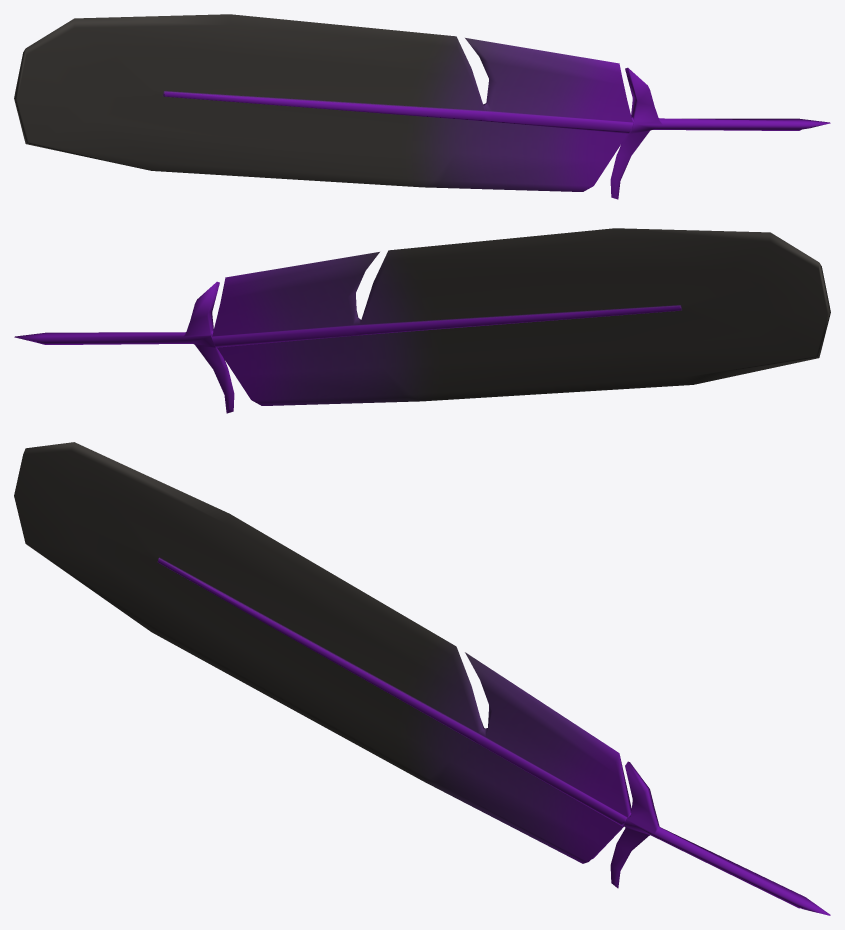
The model's file is feather_v2.fbx.
3 views of the same model, one above another, from view 1: azimuth 30°, elevation 25°; view 2: azimuth 150°, elevation 25°; view 3: azimuth 330°, elevation 25° (orthographic).
Visible parts, largest first — view 1: pCube2; view 2: pCube2; view 3: pCube2.
Boxes of the visible parts, x1,y1,x2,y2 form: pCube2: (14, 14, 830, 199); pCube2: (14, 228, 830, 413); pCube2: (14, 442, 830, 915).
Bounding box in the file's own units: 20.71 × 7.62 × 0.4166.
Materials: 1 (1 with a texture image).
